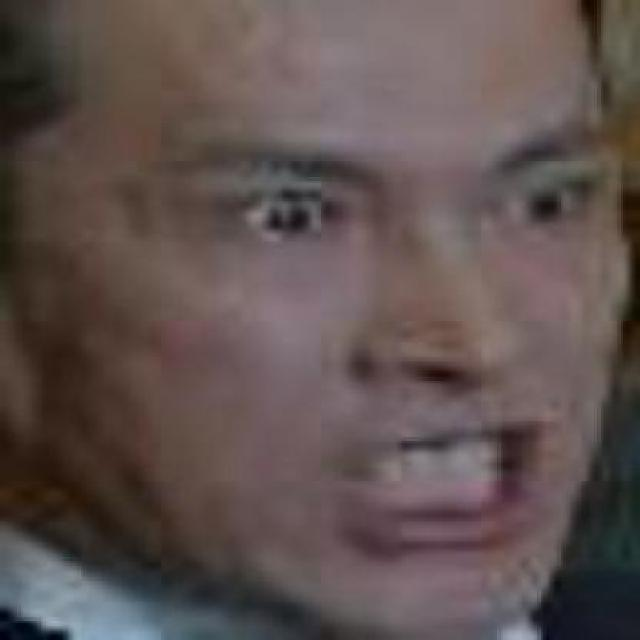angry: (76, 47, 627, 616)
